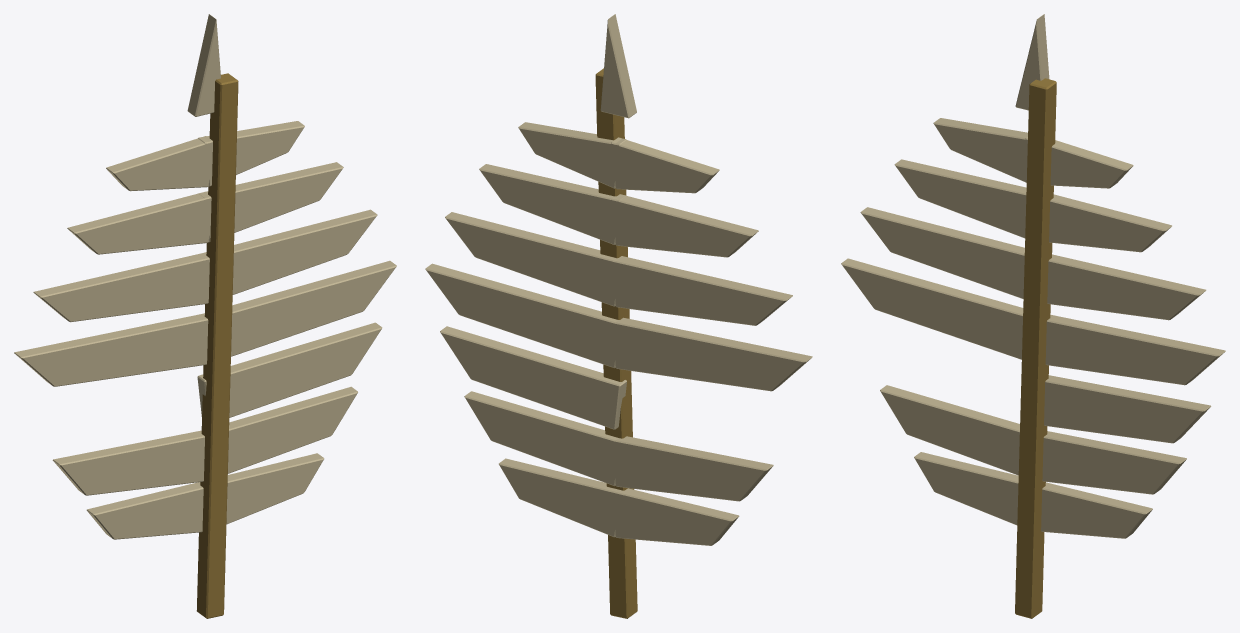
File: angel_feather.obj
3 renders of one model, left to right at view 1: azimuth 30°, elevation 25°; view 2: azimuth 150°, elevation 25°; view 3: azimuth 330°, elevation 25°, orthographic.
Parts seen in each view (by area): view 1: B_Shaft.001_ritual_gold, B_VaneL_3.001_bone, B_VaneR_3.001_bone, B_VaneL_4.001_bone, B_VaneR_2.001_bone, B_VaneL_1.001_bone, B_VaneR_4.001_bone, B_VaneR_1.001_bone, B_VaneL_5.001_bone, B_VaneL_0.001_bone, B_VaneR_5.001_bone, B_VaneL_6.001_bone (+3 smaller); view 2: B_VaneL_3.001_bone, B_VaneR_3.001_bone, B_VaneR_2.001_bone, B_VaneR_4.001_bone, B_VaneL_4.001_bone, B_VaneL_1.001_bone, B_VaneR_1.001_bone, B_VaneL_5.001_bone, B_VaneR_5.001_bone, B_Shaft.001_ritual_gold, B_VaneL_0.001_bone, B_VaneR_0.001_bone (+3 smaller); view 3: B_Shaft.001_ritual_gold, B_VaneL_3.001_bone, B_VaneR_3.001_bone, B_VaneR_2.001_bone, B_VaneL_4.001_bone, B_VaneR_4.001_bone, B_VaneL_1.001_bone, B_VaneR_1.001_bone, B_VaneL_5.001_bone, B_VaneR_5.001_bone, B_VaneR_0.001_bone, B_VaneL_0.001_bone (+3 smaller).
Boxes of the visible parts, left/top/right/bottom form: B_Shaft.001_ritual_gold: left=196, top=73, right=238, bottom=618; B_VaneL_3.001_bone: left=14, top=314, right=208, bottom=386; B_VaneR_3.001_bone: left=202, top=260, right=396, bottom=356; B_VaneL_4.001_bone: left=33, top=253, right=208, bottom=322; B_VaneR_2.001_bone: left=197, top=322, right=382, bottom=417; B_VaneL_1.001_bone: left=52, top=430, right=204, bottom=495; B_VaneR_4.001_bone: left=202, top=209, right=377, bottom=294; B_VaneR_1.001_bone: left=228, top=386, right=357, bottom=473; B_VaneL_5.001_bone: left=67, top=191, right=211, bottom=254; B_VaneL_0.001_bone: left=86, top=482, right=203, bottom=539; B_VaneR_5.001_bone: left=198, top=162, right=343, bottom=242; B_VaneL_6.001_bone: left=106, top=136, right=212, bottom=191; B_VaneL_3.001_bone: left=612, top=317, right=812, bottom=391; B_VaneR_3.001_bone: left=425, top=263, right=618, bottom=368; B_VaneR_2.001_bone: left=440, top=326, right=626, bottom=429; B_VaneR_4.001_bone: left=445, top=212, right=621, bottom=306; B_VaneL_4.001_bone: left=612, top=256, right=792, bottom=325; B_VaneL_1.001_bone: left=611, top=436, right=773, bottom=501; B_VaneR_1.001_bone: left=464, top=391, right=618, bottom=486; B_VaneL_5.001_bone: left=611, top=194, right=758, bottom=257; B_VaneR_5.001_bone: left=479, top=164, right=625, bottom=244; B_Shaft.001_ritual_gold: left=595, top=68, right=637, bottom=618; B_VaneL_0.001_bone: left=611, top=488, right=739, bottom=545; B_VaneR_0.001_bone: left=499, top=458, right=618, bottom=537; B_Shaft.001_ritual_gold: left=1015, top=78, right=1056, bottom=618; B_VaneL_3.001_bone: left=841, top=258, right=1023, bottom=359; B_VaneR_3.001_bone: left=1045, top=314, right=1225, bottom=385; B_VaneR_2.001_bone: left=1044, top=375, right=1211, bottom=443; B_VaneL_4.001_bone: left=860, top=207, right=1024, bottom=298; B_VaneR_4.001_bone: left=1047, top=254, right=1206, bottom=320; B_VaneL_1.001_bone: left=880, top=385, right=1019, bottom=475; B_VaneR_1.001_bone: left=1042, top=431, right=1186, bottom=494; B_VaneL_5.001_bone: left=894, top=159, right=1026, bottom=238; B_VaneR_5.001_bone: left=1026, top=194, right=1171, bottom=252; B_VaneR_0.001_bone: left=1041, top=482, right=1152, bottom=538; B_VaneL_0.001_bone: left=914, top=452, right=1018, bottom=525.
Size of the model in its own units: 1.55 by 2.34 by 0.1025.
